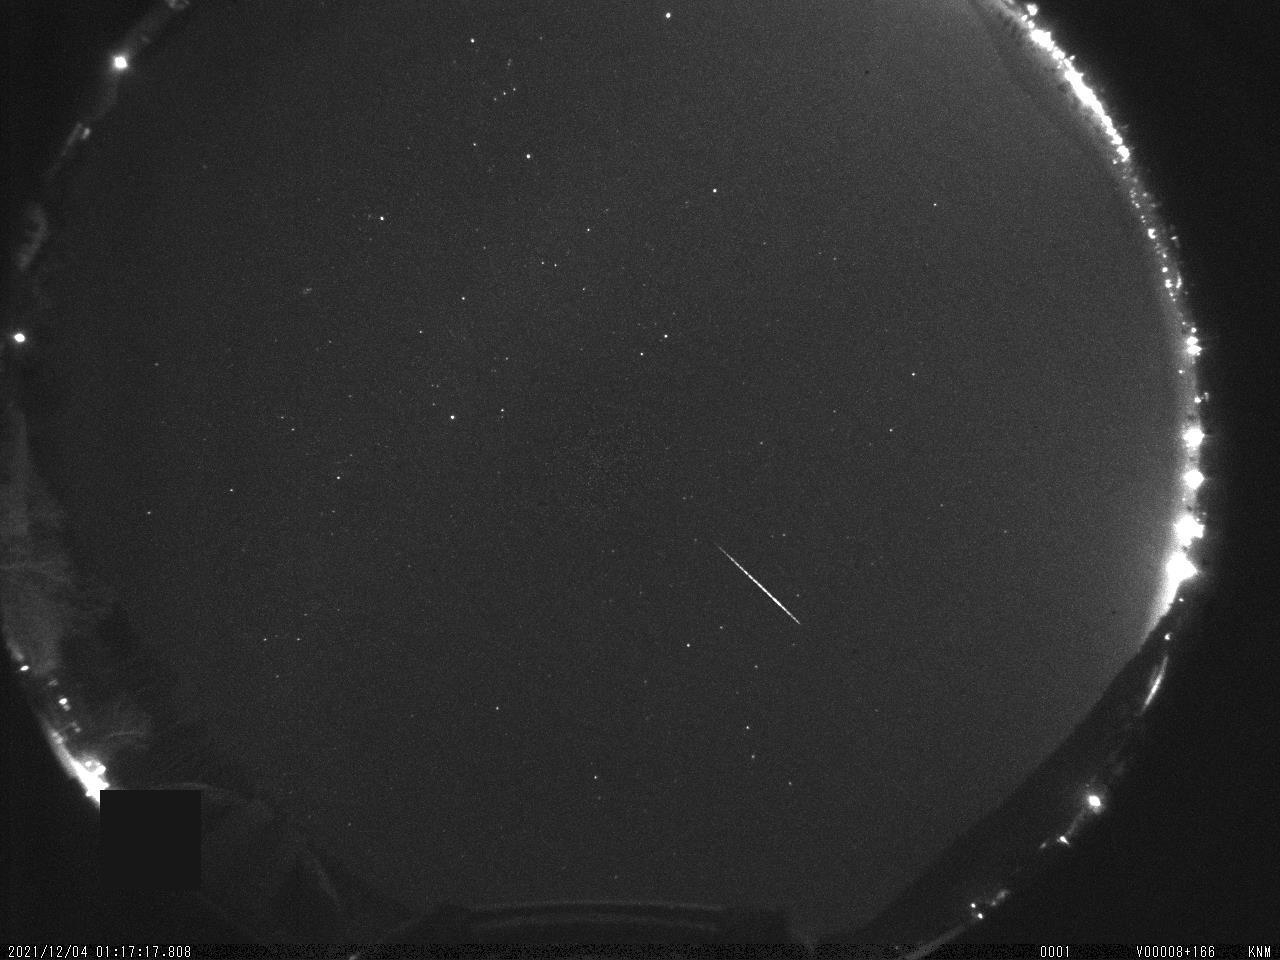Meteor: (714, 540, 803, 624)
